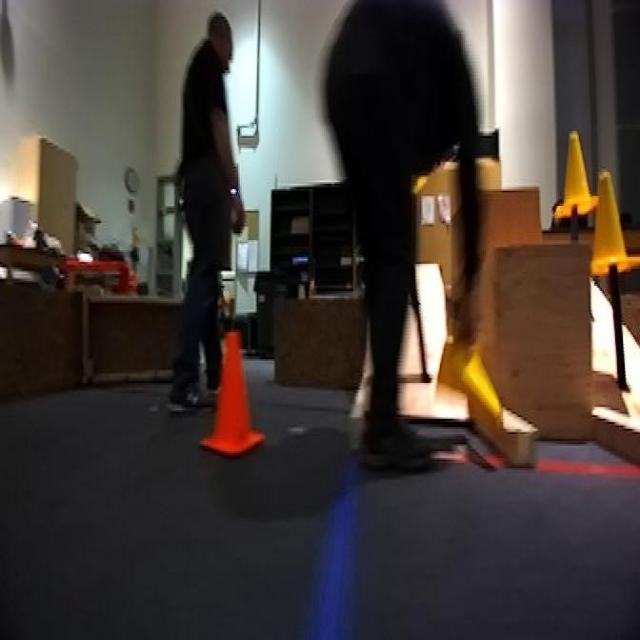frc_cone: (437, 332, 504, 425), (588, 160, 633, 284), (552, 126, 598, 228)
